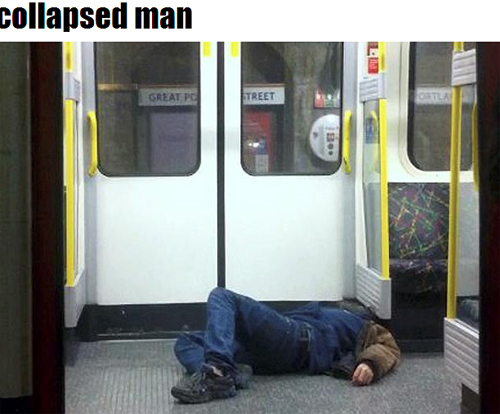fall: (160, 283, 408, 404)
